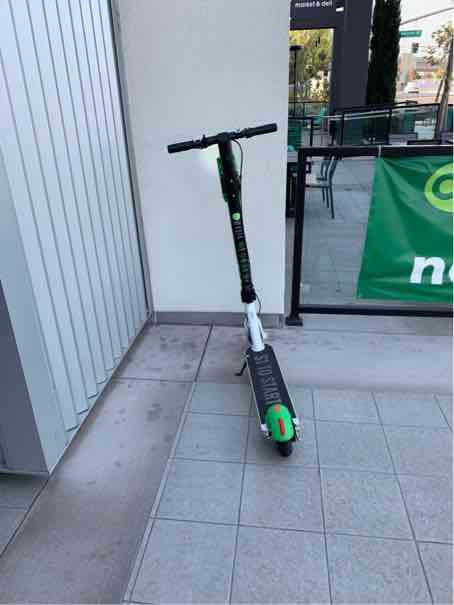scooter: (159, 115, 316, 464)
